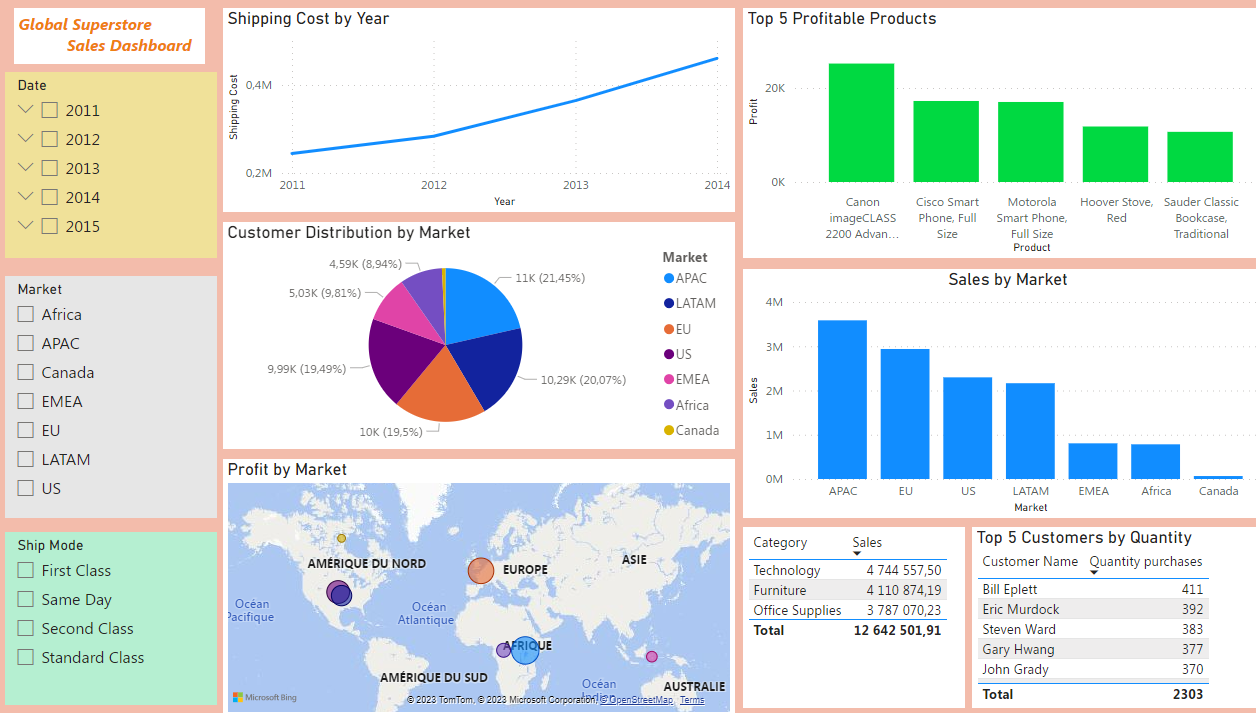

Layout of this report page (visuals, bound fields, positions):
{"tool":"powerbi","page":{"name":"Dashboard","canvas":[1280,720],"ordinal":0},"visuals":[{"type":"columnChart","fields":{"Category":["Orders.Market"],"Y":["Orders.Sales"]},"box":[749,272,531,249],"z":0},{"type":"clusteredColumnChart","title":"Top 5 Profitable Products","fields":{"Y":["Orders.Profit"],"Category":["Orders.Product Name"]},"box":[749,11,531,250],"z":1000},{"type":"slicer","fields":{"Values":["Orders.Ship Date.Variation.Date Hierarchy.Year","Orders.Ship Date.Variation.Date Hierarchy.Quarter","Orders.Ship Date.Variation.Date Hierarchy.Month","Orders.Ship Date.Variation.Date Hierarchy.Day"]},"box":[10.7,74.8,211.9,186.6],"z":2000},{"type":"tableEx","title":"Top 5 Customers by Quantity ","fields":{"Values":["Orders.Customer Name","Orders.Quantity"]},"box":[978,530,302,181],"z":3000},{"type":"slicer","fields":{"Values":["Orders.Ship Mode"]},"box":[10.7,534.5,211.9,173],"z":4000},{"type":"tableEx","fields":{"Values":["Orders.Category","Orders.Sales"]},"box":[749,530,222,181],"z":5000},{"type":"lineChart","title":"Shipping Cost by Year","fields":{"Y":["Orders.Shipping Cost"],"Category":["Orders.Order Date.Variation.Date Hierarchy.Year","Orders.Order Date.Variation.Date Hierarchy.Quarter","Orders.Order Date.Variation.Date Hierarchy.Month","Orders.Order Date.Variation.Date Hierarchy.Day"]},"box":[229.4,10.7,511.2,204.1],"z":6000},{"type":"map","title":"Profit by Market","fields":{"Category":["Orders.Market"],"Size":["Orders.Profit"]},"box":[229.4,461.7,511.2,258.5],"z":7000},{"type":"slicer","fields":{"Values":["Orders.Market"]},"box":[10.7,278.9,211.9,242],"z":8000},{"type":"pieChart","fields":{"Category":["Orders.Market"],"Y":["Orders.Customer Name"]},"box":[229.4,225.5,511.2,226.5],"z":9000},{"type":"textbox","box":[20.4,10.7,190.5,56.4],"z":10000}]}

Visuals, with their boxes in screenshot pixels (x1, y1, x2, y2), scaled from the page's 1280x720 canvas onto the 1256x713 screenshot:
columnChart - Orders.Market x Orders.Sales: bbox=[735, 269, 1255, 516]
"Top 5 Profitable Products" clusteredColumnChart: bbox=[735, 11, 1255, 258]
slicer - Orders.Ship Date.Variation.Date Hierarchy.Year x Orders.Ship Date.Variation.Date Hierarchy.Quarter: bbox=[10, 74, 218, 259]
"Top 5 Customers by Quantity " tableEx: bbox=[960, 525, 1255, 704]
slicer - Orders.Ship Mode: bbox=[10, 529, 218, 701]
tableEx - Orders.Category x Orders.Sales: bbox=[735, 525, 953, 704]
"Shipping Cost by Year" lineChart: bbox=[225, 11, 727, 213]
"Profit by Market" map: bbox=[225, 457, 727, 712]
slicer - Orders.Market: bbox=[10, 276, 218, 516]
pieChart - Orders.Market x Orders.Customer Name: bbox=[225, 223, 727, 448]
textbox: bbox=[20, 11, 207, 66]
